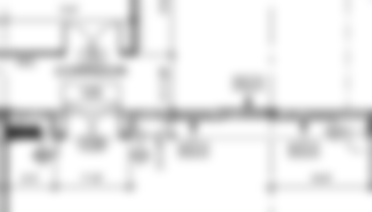double door: (62, 104, 124, 138), (62, 22, 124, 55)
